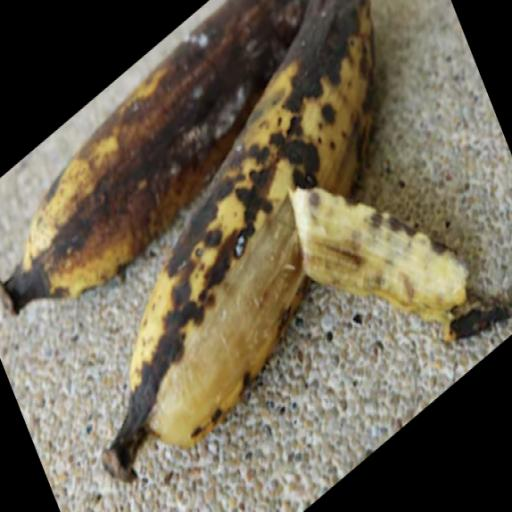banana-overripe: (1, 0, 430, 512)
